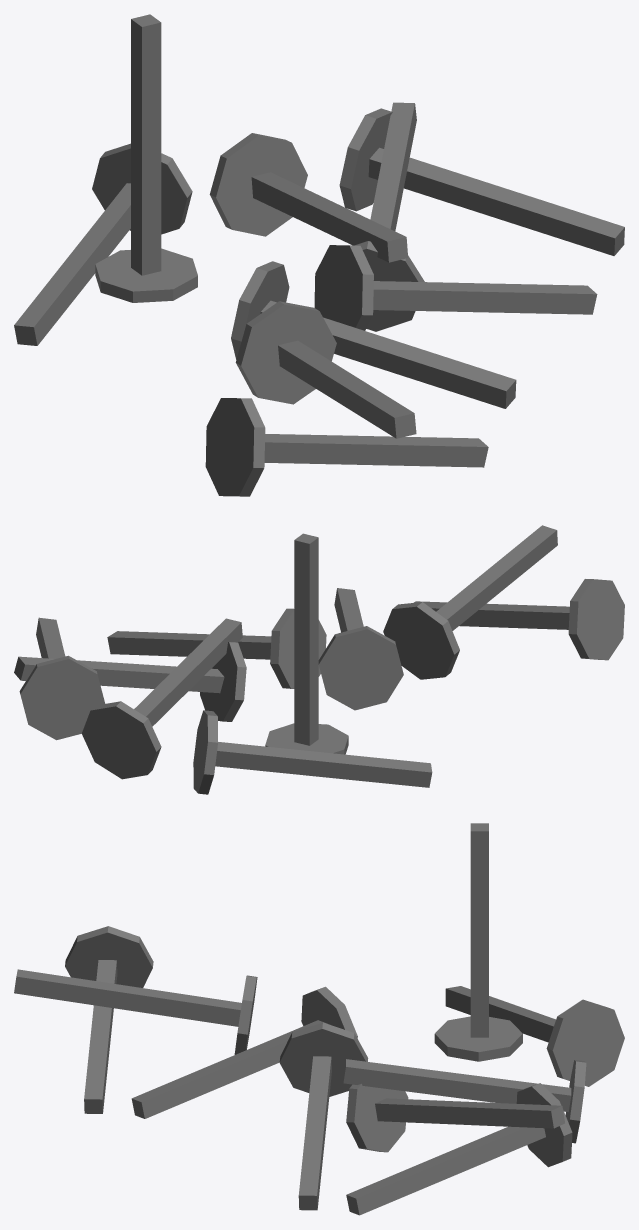
Rendered from nail.fbx.
3 renders of one model, top to bottom at view 1: azimuth 30°, elevation 25°; view 2: azimuth 150°, elevation 25°; view 3: azimuth 270°, elevation 25°, orthographic. The views are drawn at different scales.
Visible parts, largest first — view 1: nail; view 2: nail; view 3: nail.
Part boxes in pixels (x1,y1,x2,y2): nail: (14,14,624,496); nail: (14,525,624,794); nail: (14,823,624,1215).
Bounding box in the file's own units: 24.99 × 13.28 × 28.73.
Materials: 1 (1 with a texture image).
